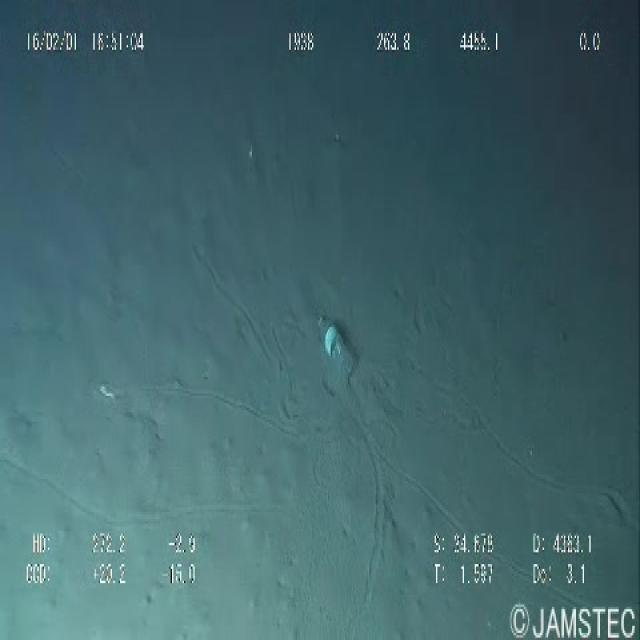plastic: (308, 306, 365, 391)
